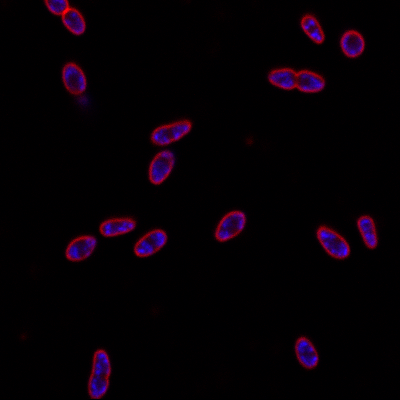Mecillinam: (266, 66, 328, 93), (314, 224, 351, 262), (86, 348, 114, 398), (149, 117, 192, 145), (214, 209, 247, 244), (292, 334, 320, 371), (134, 228, 168, 258), (64, 235, 97, 263), (297, 13, 325, 45), (338, 29, 365, 59), (356, 214, 378, 250), (97, 217, 135, 236)
Oblique: (62, 60, 91, 108), (146, 147, 176, 186)
